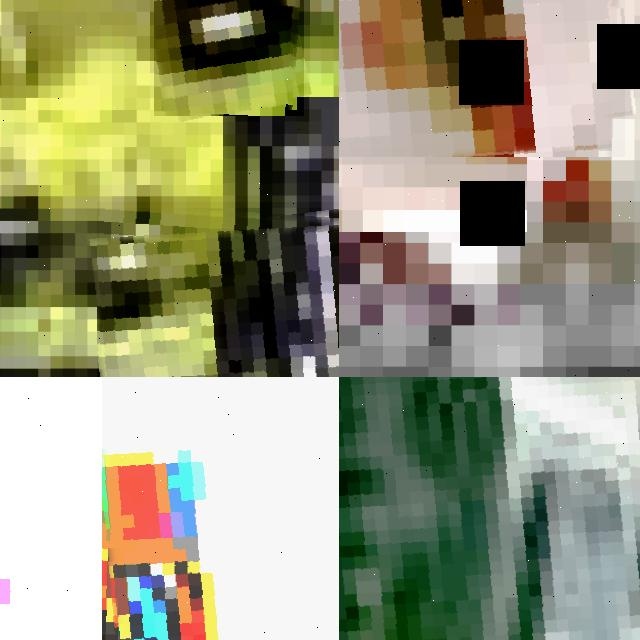arms: (339, 377, 640, 640), (102, 377, 339, 640), (339, 0, 625, 157), (97, 202, 339, 377), (153, 0, 304, 116)
